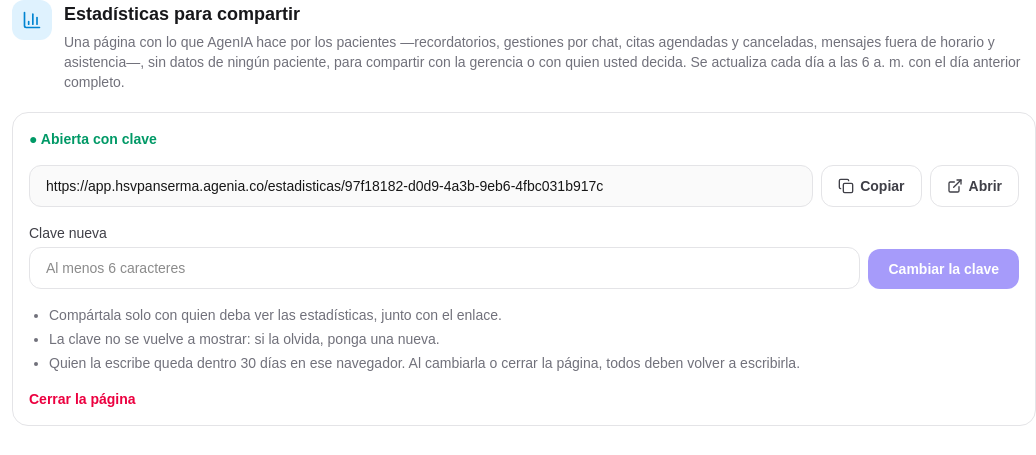
EstadisticasParaCompartir — Configuración › cerrarla pide confirmación
What coordinates should you click on to do the following:
click the button "Cerrar la página"
I would click on:
 (82, 399)
Its box is [29, 389, 136, 409].
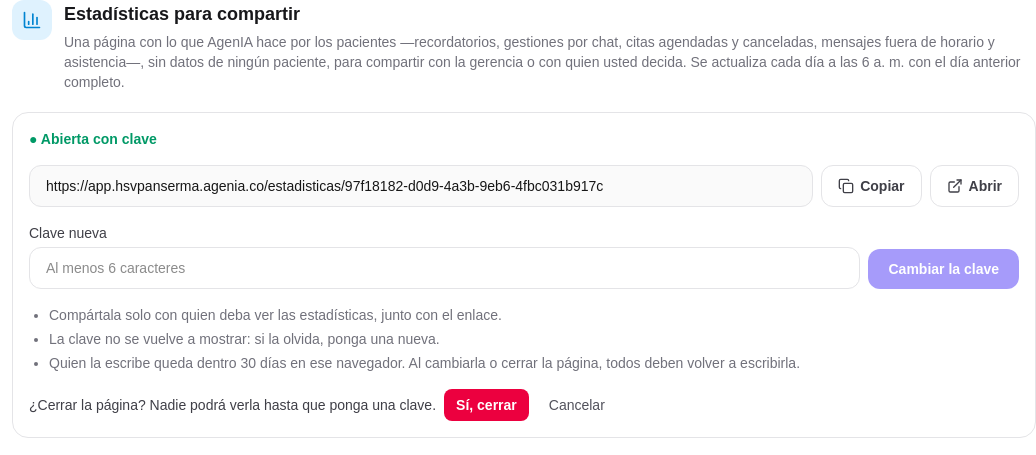
What coordinates should you click on to do the following:
click the button "Sí, cerrar"
I would click on:
 (486, 405)
Its box is [444, 389, 529, 421].
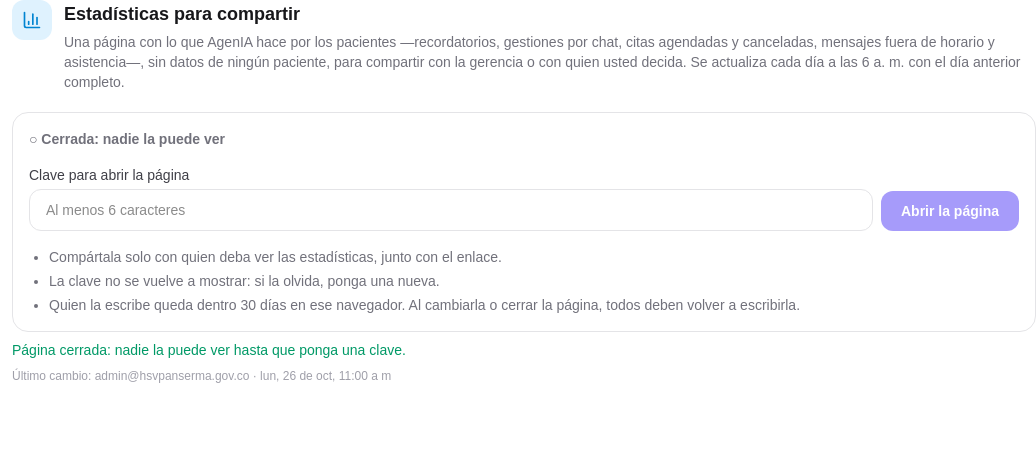
Now the text "○ Cerrada: nadie la puede ver" is shown, box [29, 131, 225, 147]
